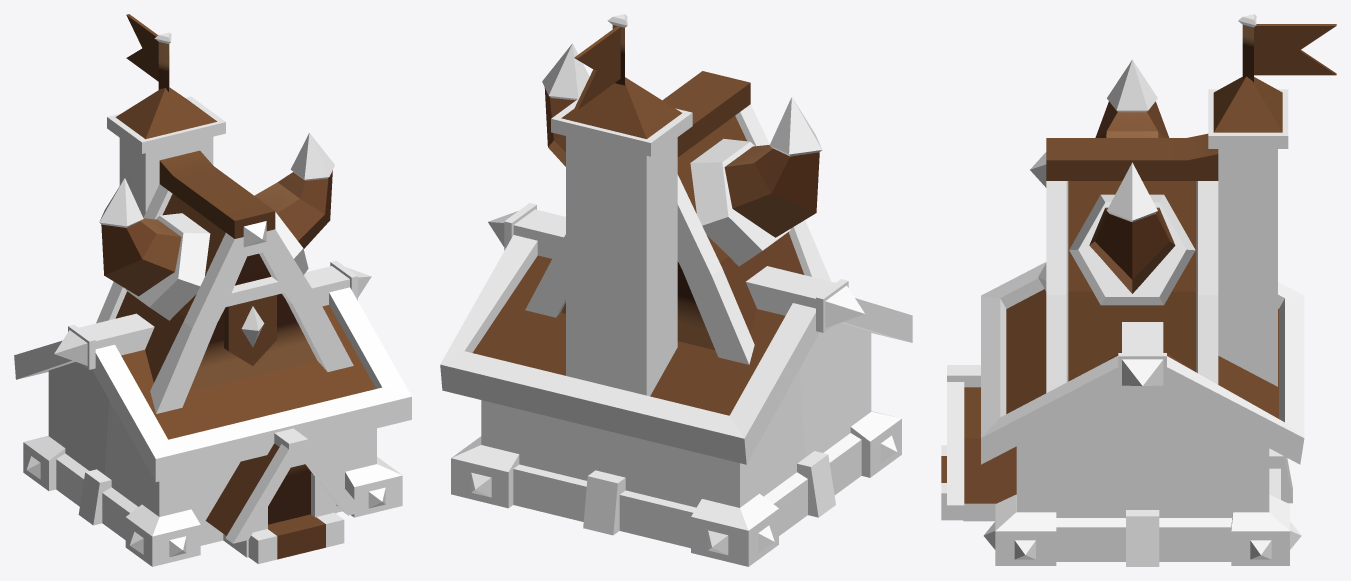
The model's file is Building_CityHall_Lv14.fbx.
3 renders of one model, left to right at view 1: azimuth 30°, elevation 25°; view 2: azimuth 150°, elevation 25°; view 3: azimuth 270°, elevation 25°, orthographic. The views are drawn at different scales.
Parts seen in each view (by area): view 1: Building_CityHall_Lv14; view 2: Building_CityHall_Lv14; view 3: Building_CityHall_Lv14.
Boxes of the visible parts, box(x1,y1,x2,y2) form: Building_CityHall_Lv14: box(14, 14, 411, 566); Building_CityHall_Lv14: box(440, 14, 912, 566); Building_CityHall_Lv14: box(941, 14, 1336, 566).
Bounding box in the file's own units: 1.18 × 1.49 × 1.12.
